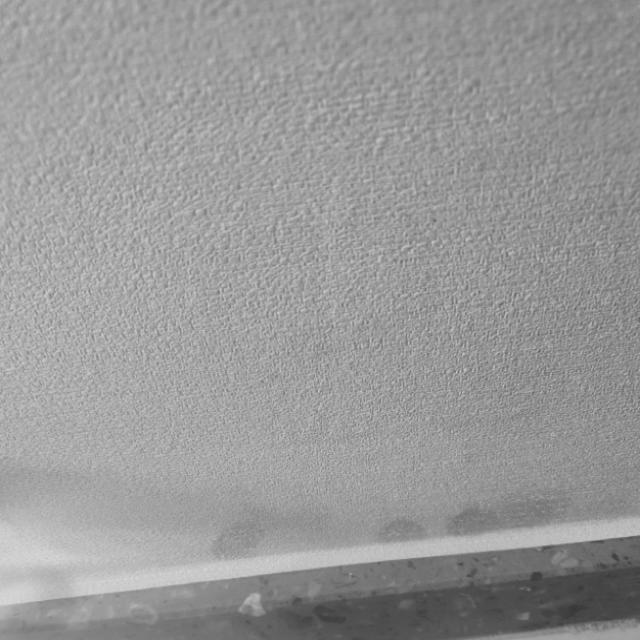stain marks: (187, 474, 631, 567), (11, 534, 96, 629)
